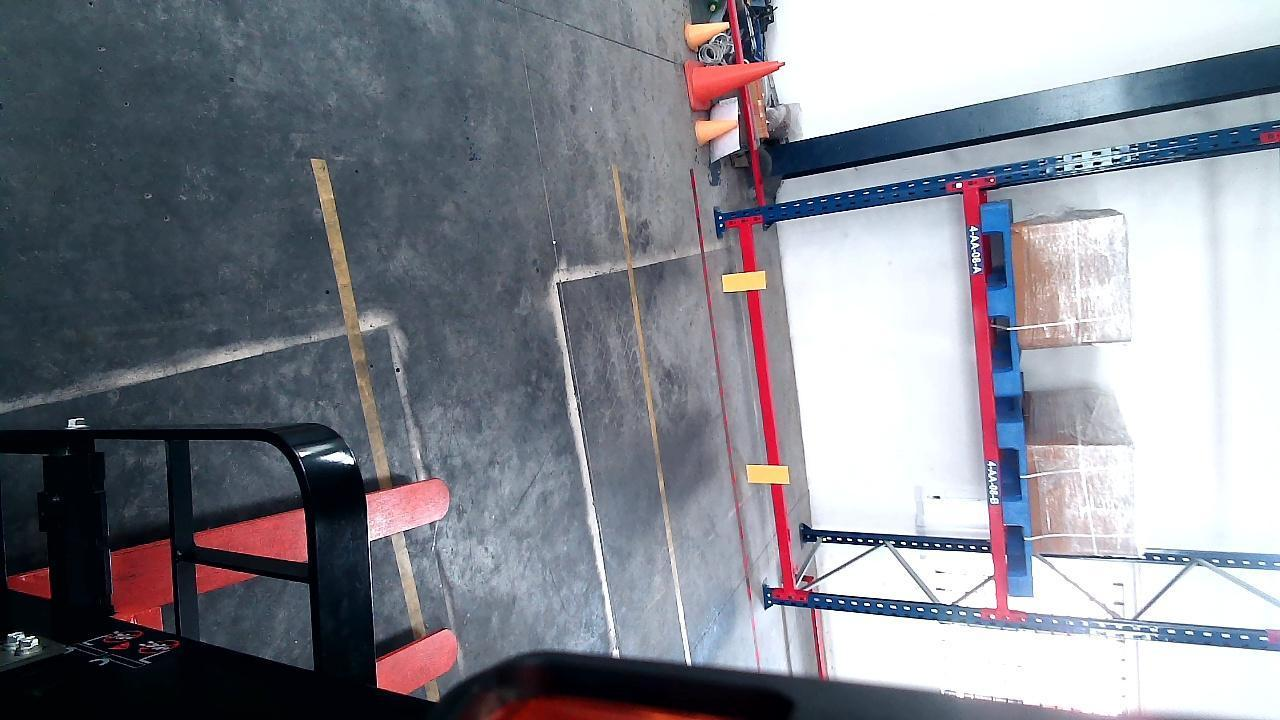h_rack: (748, 196, 792, 625), (969, 188, 1001, 599)
orange_strip: (722, 268, 765, 292), (745, 461, 788, 485)
small_pallet: (981, 195, 1018, 388), (997, 420, 1034, 589)
yellow_line: (621, 179, 684, 624), (312, 150, 388, 466)
